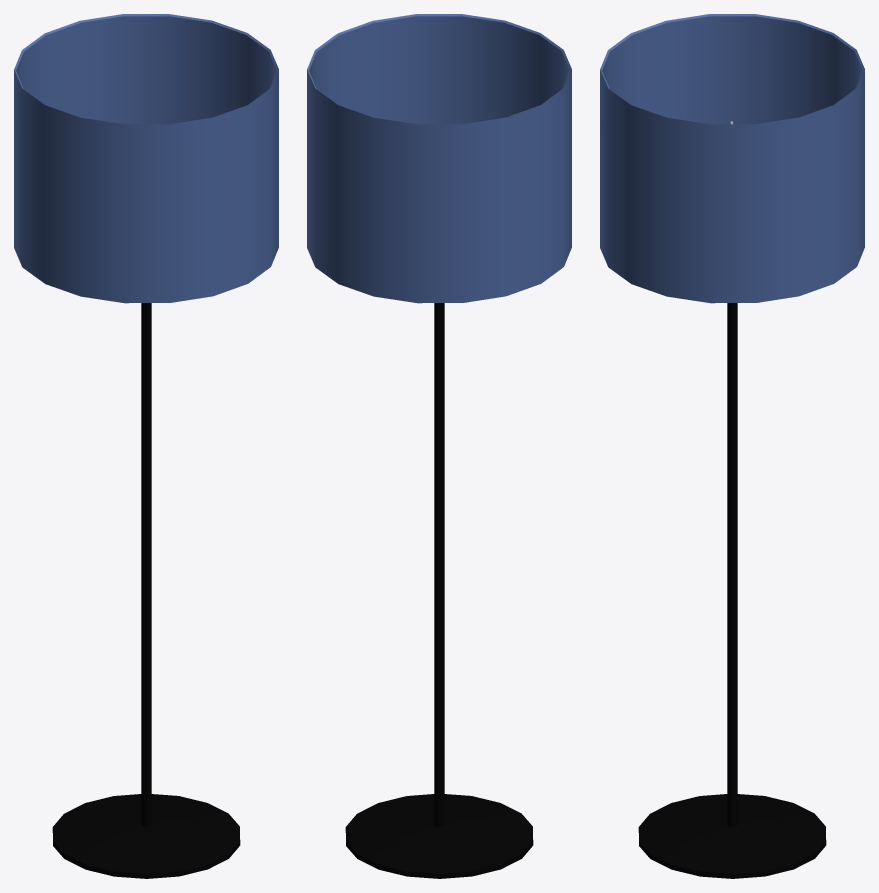
Rendered from meko upjora 22.fbx.
3 renders of one model, left to right at view 1: azimuth 30°, elevation 25°; view 2: azimuth 150°, elevation 25°; view 3: azimuth 270°, elevation 25°, orthographic.
Parts seen in each view (by area): view 1: plafond, base; view 2: plafond, base; view 3: plafond, base.
Part boxes in pixels (x1,y1,x2,y2): plafond: (14,14,278,303); base: (52,303,240,878); plafond: (307,14,571,303); base: (345,303,533,878); plafond: (600,14,864,303); base: (638,121,826,878).
Bounding box in the file's own units: 43.95 × 143 × 44.59.
